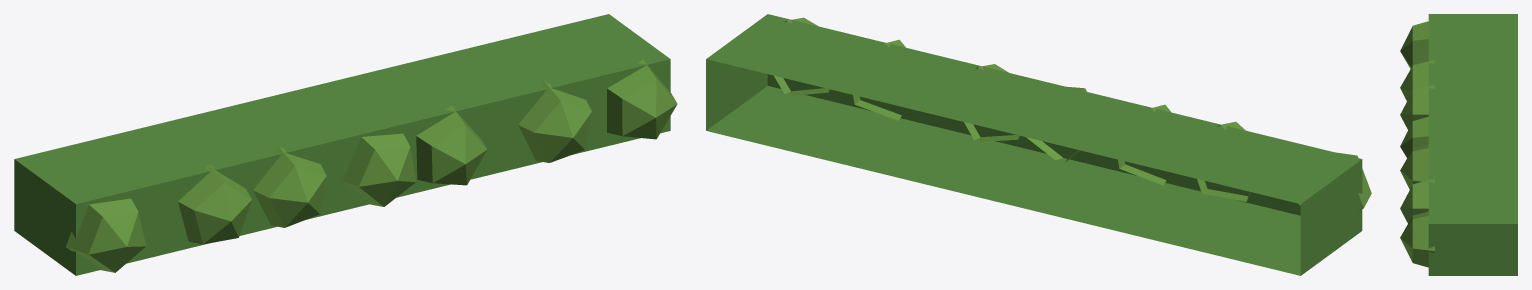
3 views of the same model, side by side, from view 1: azimuth 30°, elevation 25°; view 2: azimuth 150°, elevation 25°; view 3: azimuth 270°, elevation 25° (orthographic). The views are drawn at different scales.
Parts seen in each view (by area): view 1: fence_1; view 2: fence_1; view 3: fence_1.
Part boxes in pixels (left/top/right/bottom): fence_1: left=14, top=14, right=677, bottom=275; fence_1: left=706, top=14, right=1371, bottom=275; fence_1: left=1400, top=14, right=1517, bottom=275.
Bounding box in the file's own units: 15.85 × 1.99 × 3.7.
